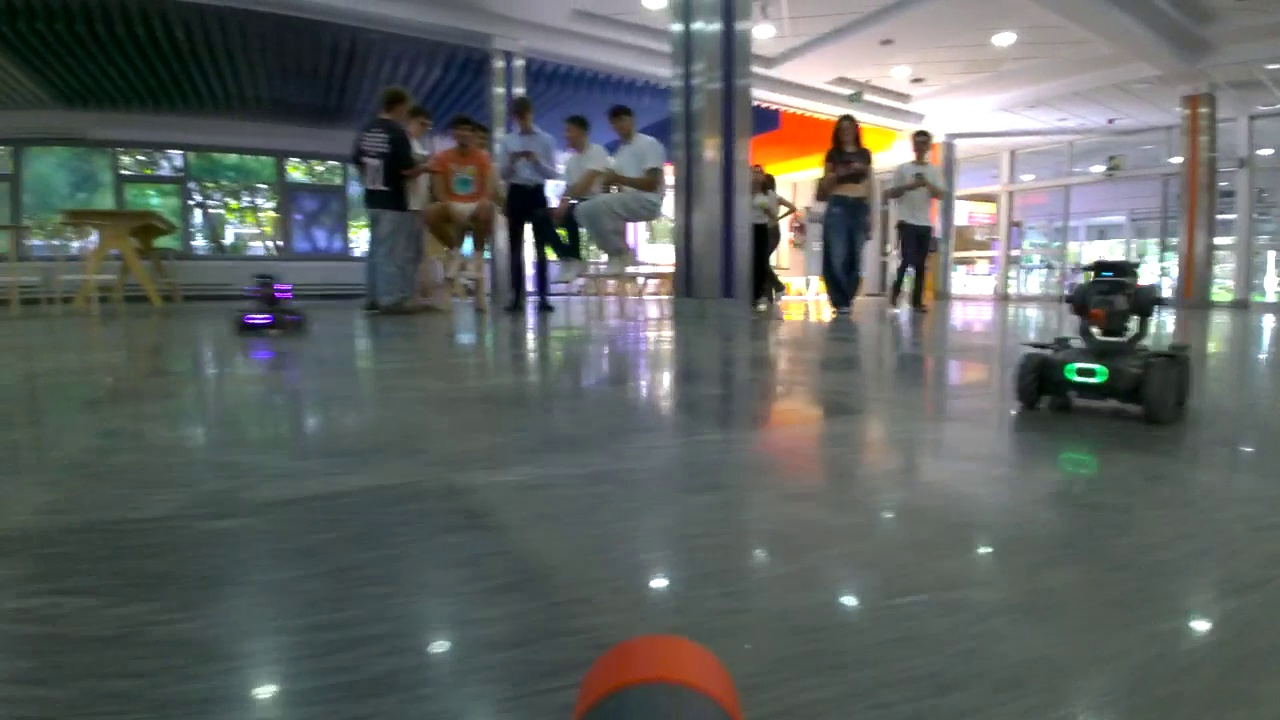robot: (1016, 258, 1188, 429), (236, 272, 305, 336)
